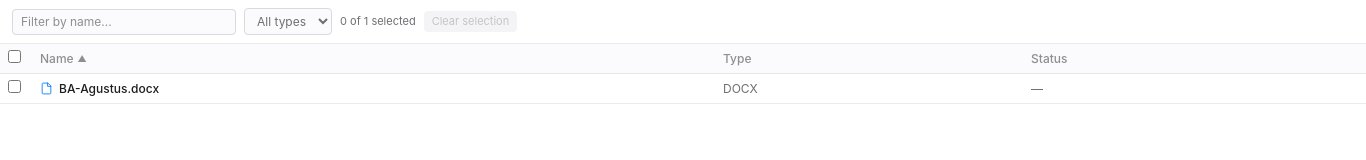
List filtering › shows an empty state when no row matches the filter
Type "zzz" into the search field named "Filter documents" at (124, 22), box left=12, top=8, right=236, bottom=34
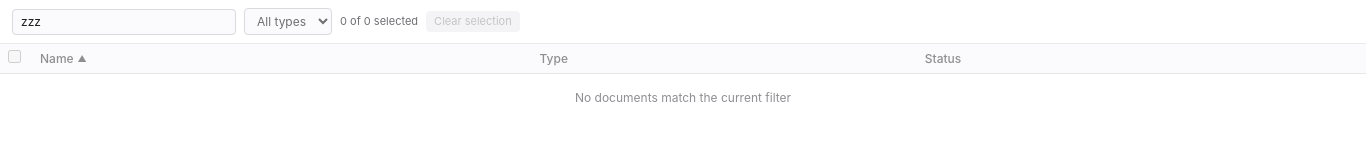
Expected: the row with test id "list-row-doc-1" is gone
Expected: the text "No documents match the current filter" is shown, left=575, top=90, right=791, bottom=105
